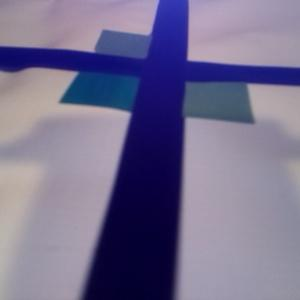bottom_left: (60, 57, 182, 111)
bottom_right: (140, 66, 253, 122)
top_left: (93, 28, 186, 71)
